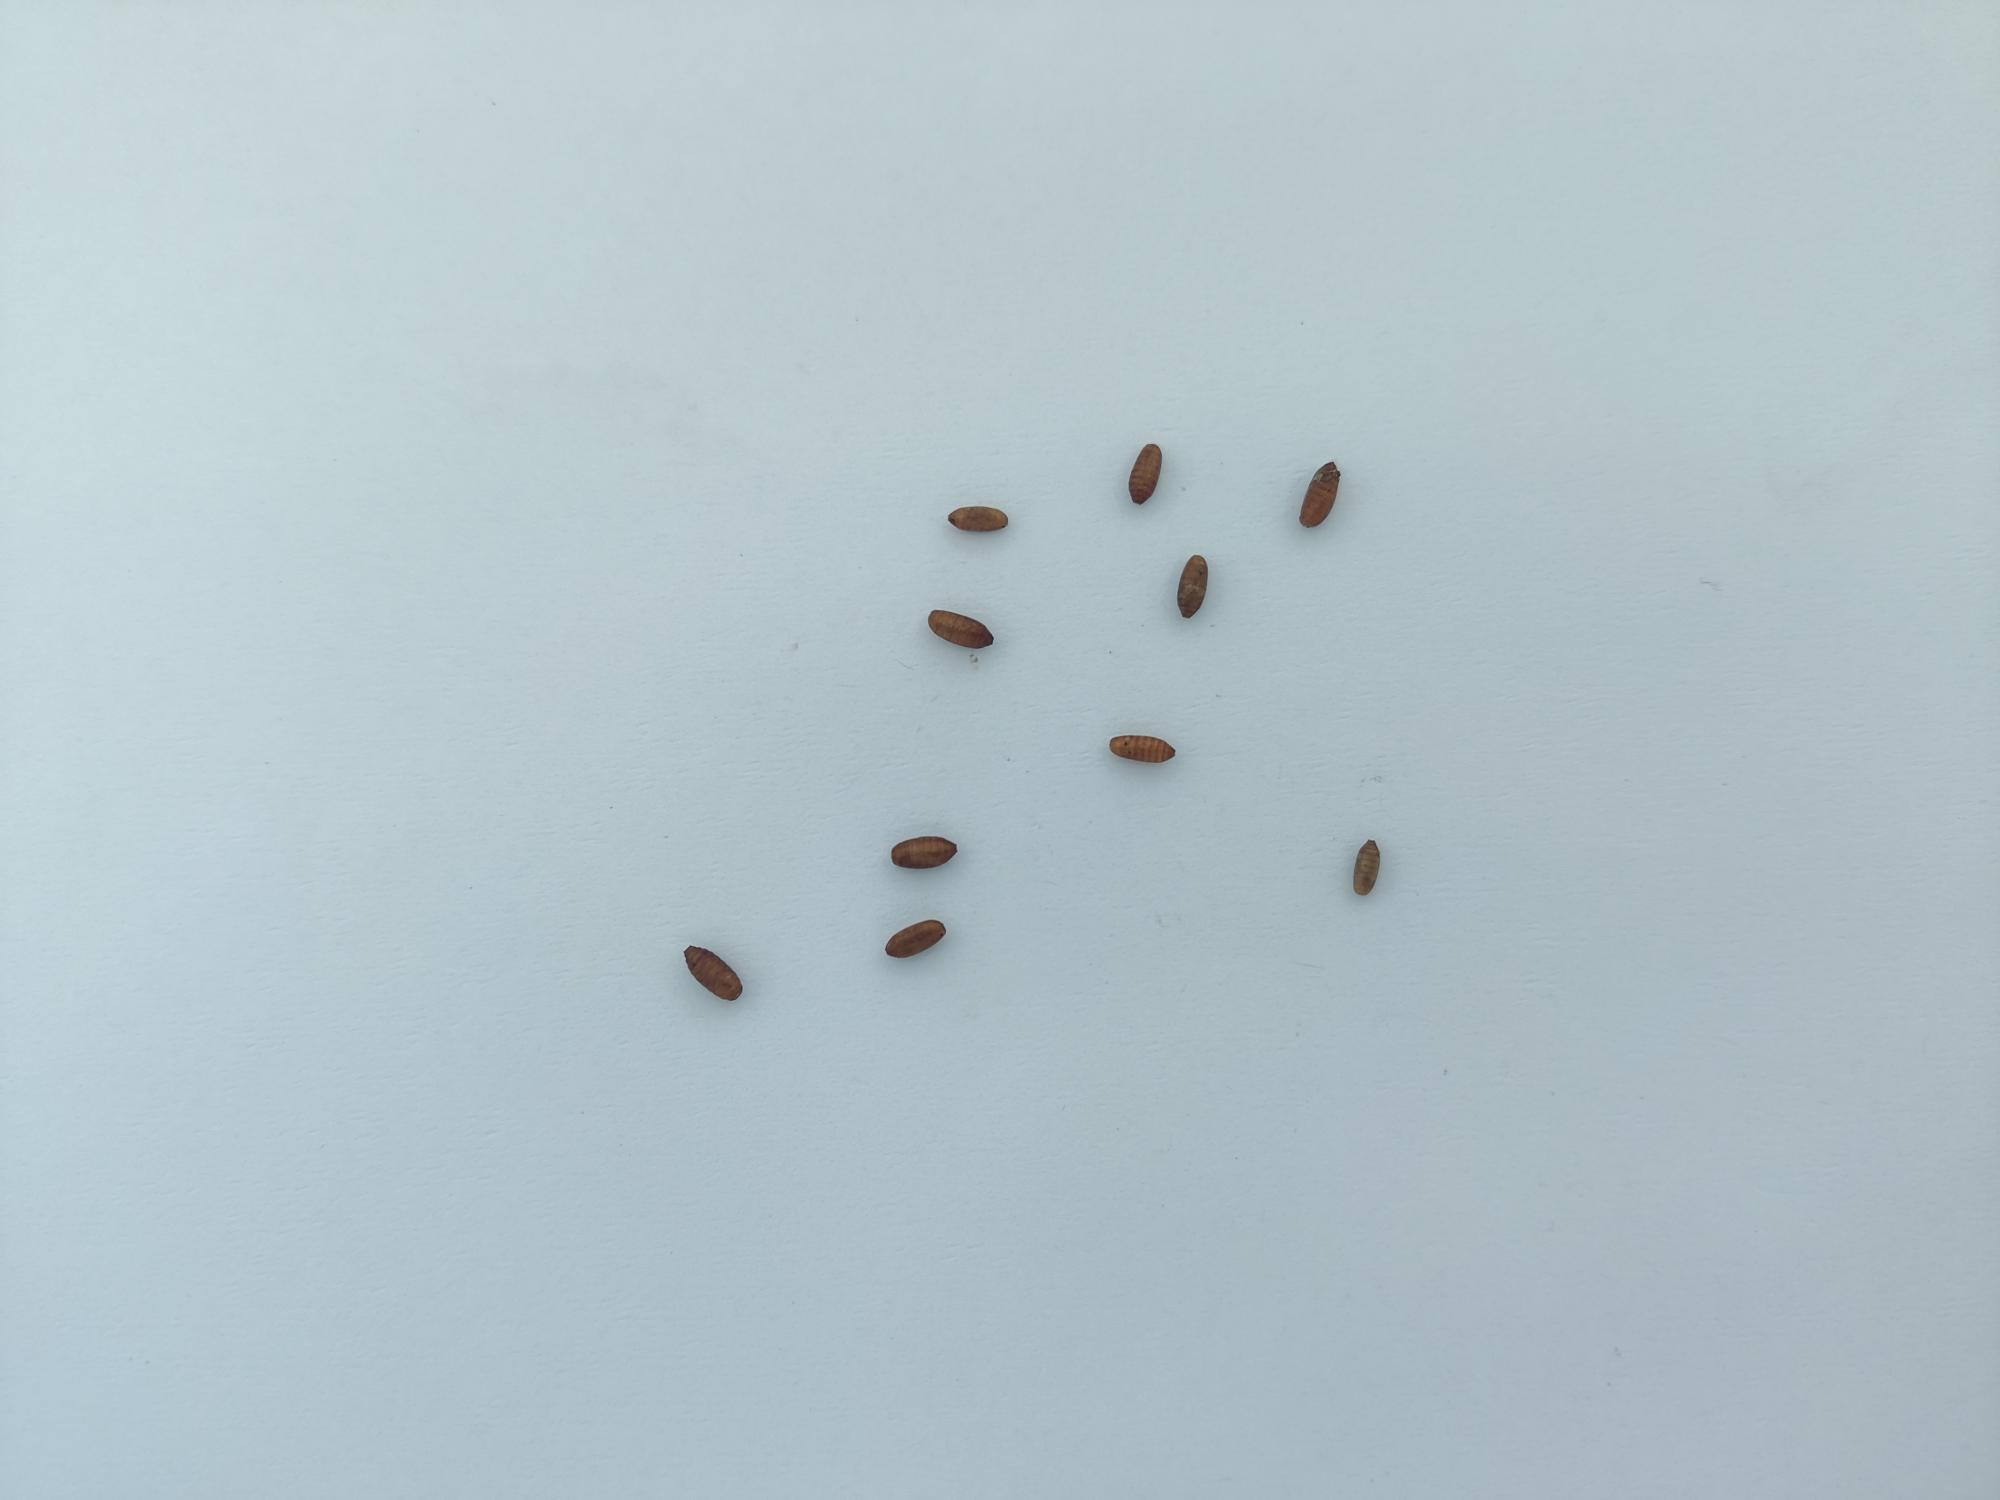pupae: (666, 933, 754, 1016), (1285, 447, 1353, 545), (871, 908, 959, 978), (879, 813, 970, 879), (918, 602, 1006, 662), (937, 485, 1016, 548), (1117, 432, 1175, 515), (1102, 722, 1186, 775), (1342, 830, 1391, 920), (1173, 545, 1225, 626)
